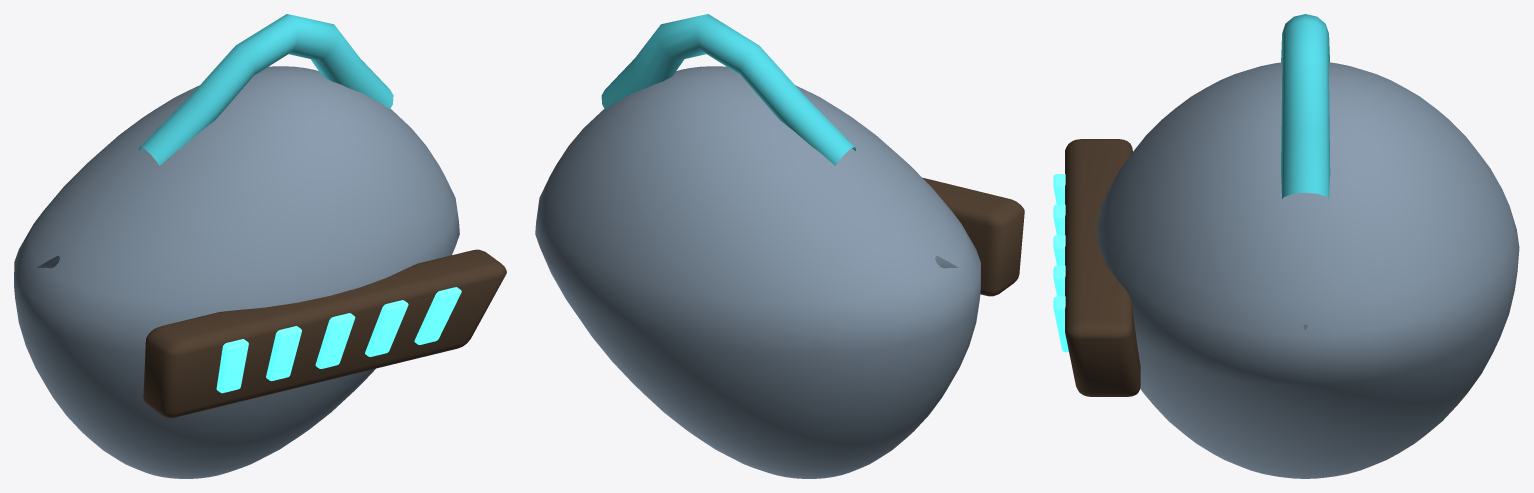
Rendered from helm_v7.glb.
3 renders of one model, left to right at view 1: azimuth 30°, elevation 25°; view 2: azimuth 150°, elevation 25°; view 3: azimuth 270°, elevation 25°, orthographic. The views are drawn at different scales.
Parts seen in each view (by area): view 1: HELM_SHELL_PRIMARY, VISOR_SECONDARY, HELM_CREST_ACCENT, VISOR_SLIT_EMISSIVE.004, VISOR_SLIT_EMISSIVE.003, VISOR_SLIT_EMISSIVE.002, VISOR_SLIT_EMISSIVE.001, VISOR_SLIT_EMISSIVE; view 2: HELM_SHELL_PRIMARY, HELM_CREST_ACCENT, VISOR_SECONDARY; view 3: HELM_SHELL_PRIMARY, VISOR_SECONDARY, HELM_CREST_ACCENT, VISOR_SLIT_EMISSIVE.004.
Part boxes in pixels (x1,y1,x2,y2): HELM_SHELL_PRIMARY: (14,66,459,478); VISOR_SECONDARY: (143,249,506,418); HELM_CREST_ACCENT: (138,14,393,165); VISOR_SLIT_EMISSIVE.004: (414,287,461,344); VISOR_SLIT_EMISSIVE.003: (365,300,408,356); VISOR_SLIT_EMISSIVE.002: (315,313,355,368); VISOR_SLIT_EMISSIVE.001: (266,326,301,380); VISOR_SLIT_EMISSIVE: (216,339,248,393); HELM_SHELL_PRIMARY: (535,66,980,478); HELM_CREST_ACCENT: (601,14,856,165); VISOR_SECONDARY: (922,177,1024,296); HELM_SHELL_PRIMARY: (1096,62,1519,478); VISOR_SECONDARY: (1065,139,1140,396); HELM_CREST_ACCENT: (1281,14,1330,198); VISOR_SLIT_EMISSIVE.004: (1053,296,1068,352).
Bounding box in the file's own units: 1.83 × 1.83 × 1.54.
